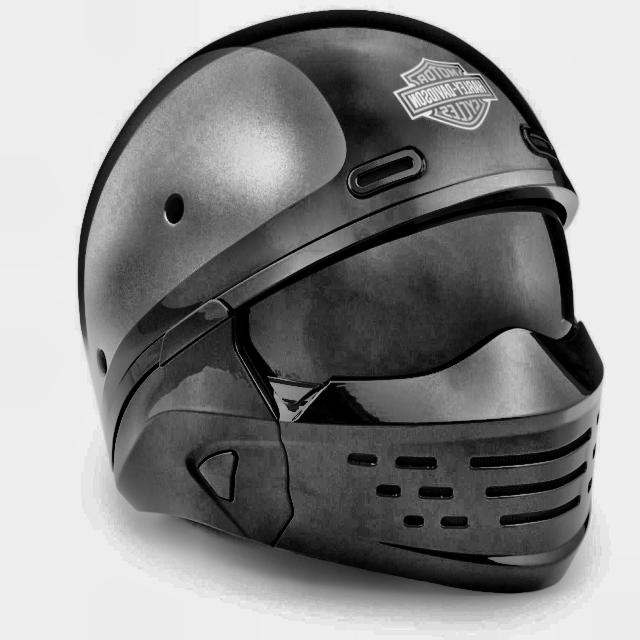Helmet: (59, 0, 613, 601)
